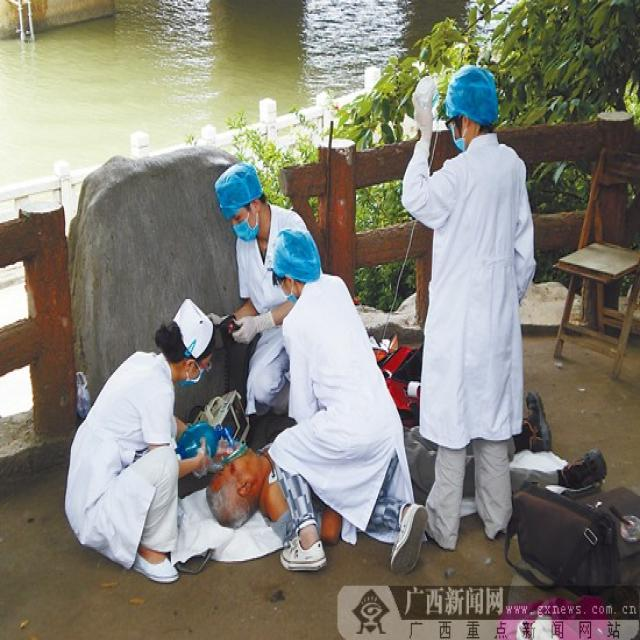fall: (212, 398, 592, 526)
